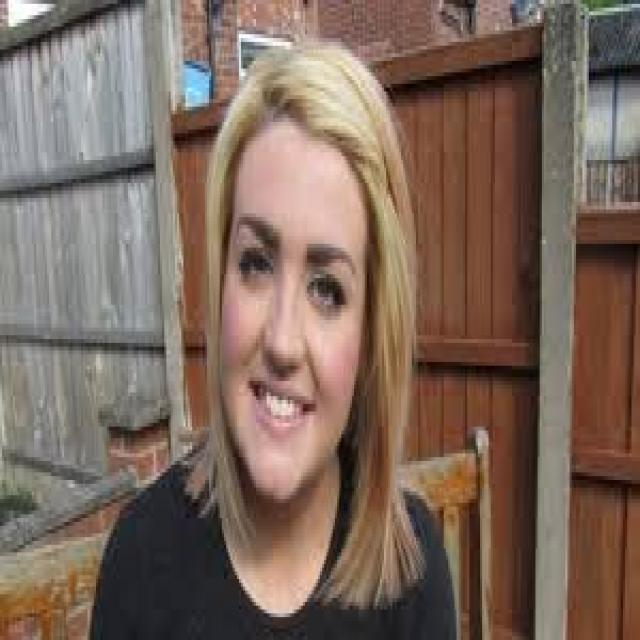stroke_face: (200, 61, 390, 540)
